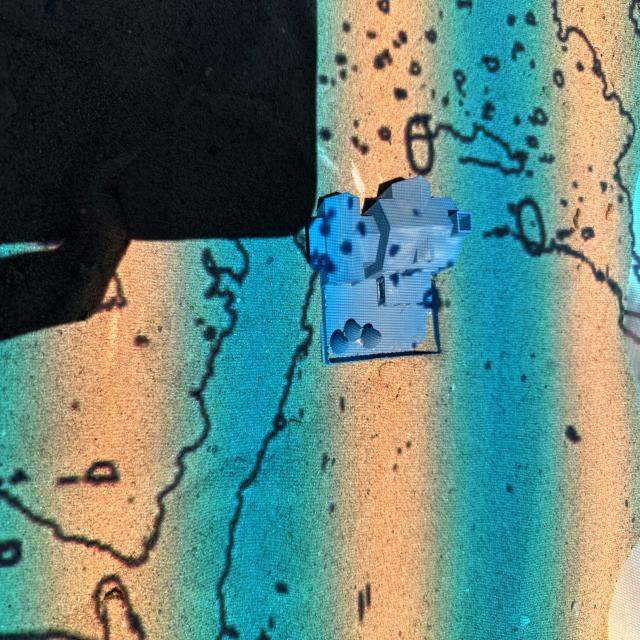house: (306, 173, 472, 365)
